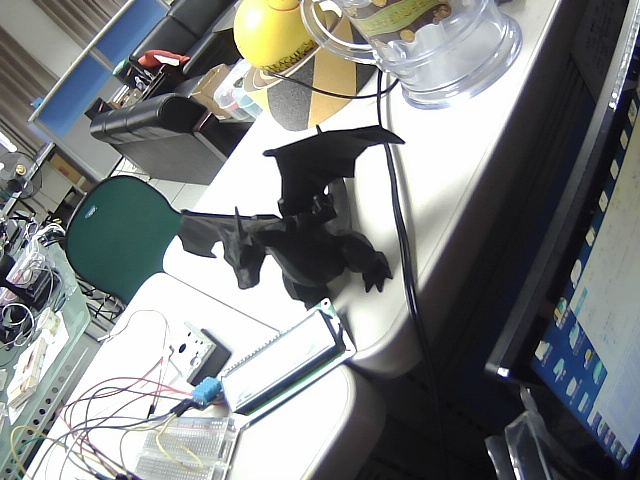charizard: (146, 111, 482, 349)
